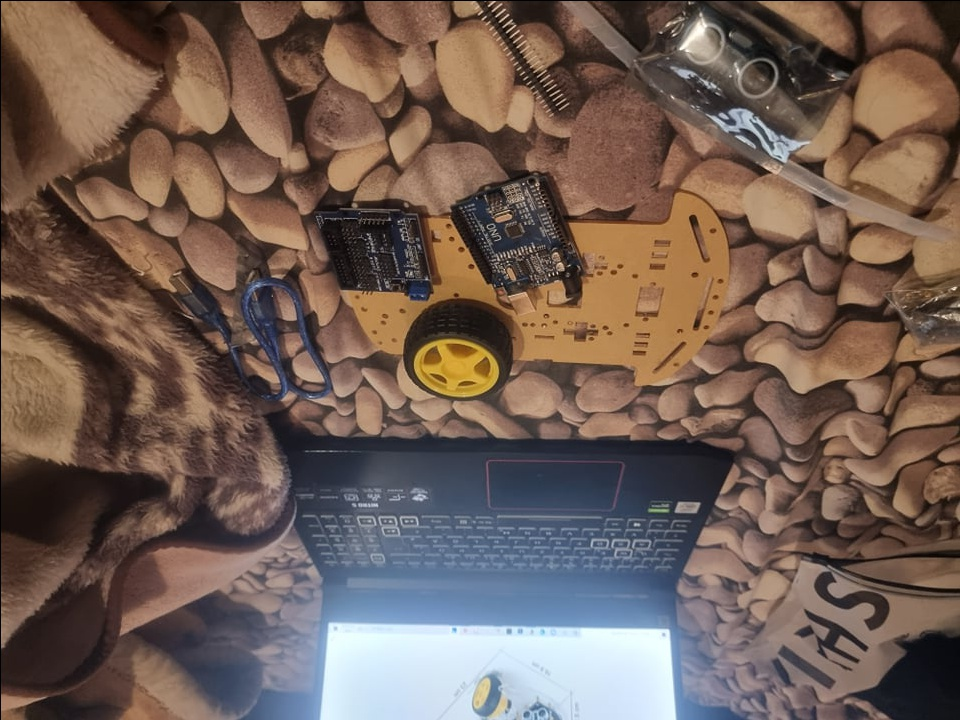5V EXPANSION: (314, 207, 434, 301)
SENSOR: (669, 10, 779, 99)
UNO R3: (446, 169, 588, 316)
